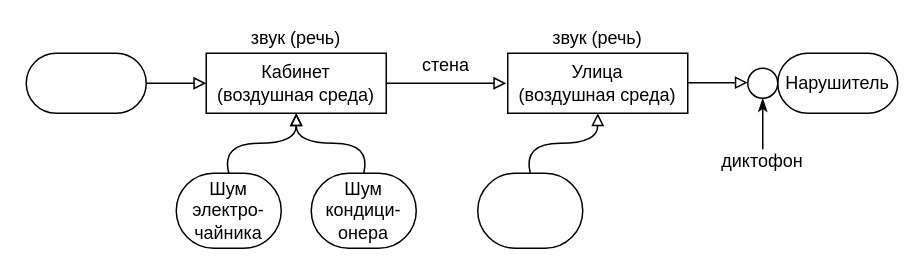
This 924x275 diagram has some shape labels left out. Each missing label, with the centre of its shape:
Директор школы: point 85,82
Шум улицы: point 529,210
